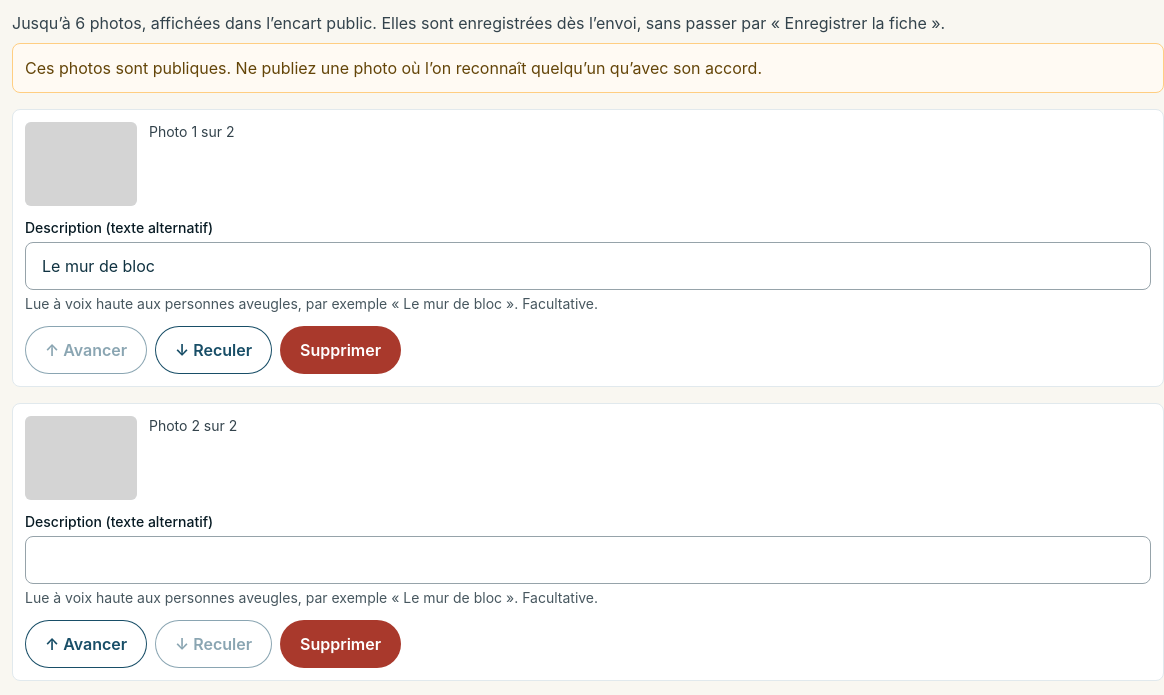
Test: OrganizationPhotosManager (ADR-090) › dit quoi faire quand le serveur ne répond pas
The image size is (1164, 695).
What coordinates should you click on to do the following:
click the button "Supprimer" below "Photo 1 sur 2"
I would click on:
 (340, 350)
Its box is [280,326,401,374].
(page scrolled)
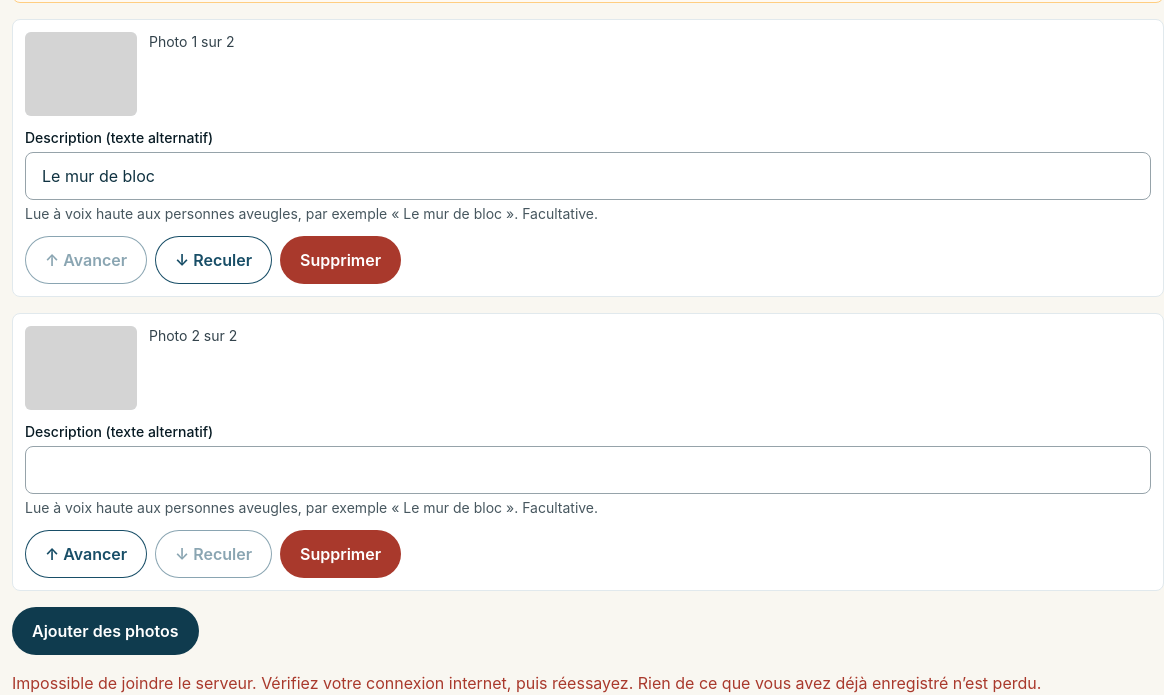
Expected: the number of list items with test id "managed-photo" is 2, [12,19,1163,297]; [12,313,1163,591]
Expected: the message shows "Impossible de joindre le serveur", [12,673,1041,693]
